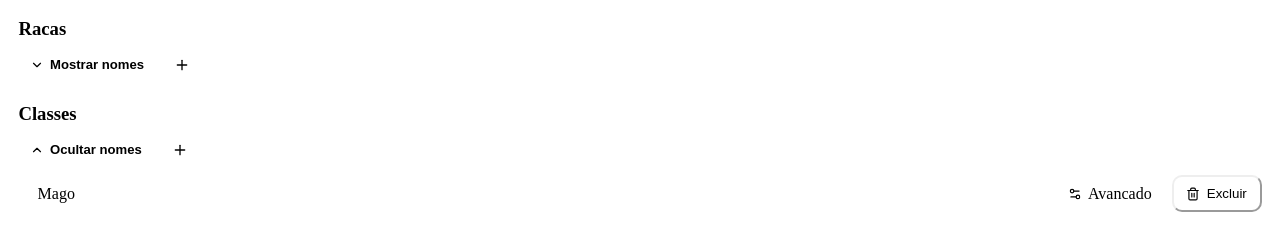
Test case: RaceClassOptionsSection › remove class usando use-case e atualiza lista
The image size is (1279, 245).
Click the button "Excluir": (1217, 194) [1172,175,1262,212]
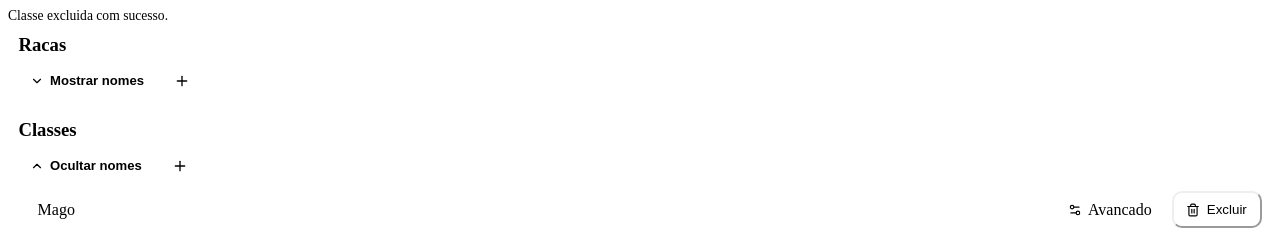
Check: the text "Classe excluida com sucesso." is shown, box [8,8,168,23]
